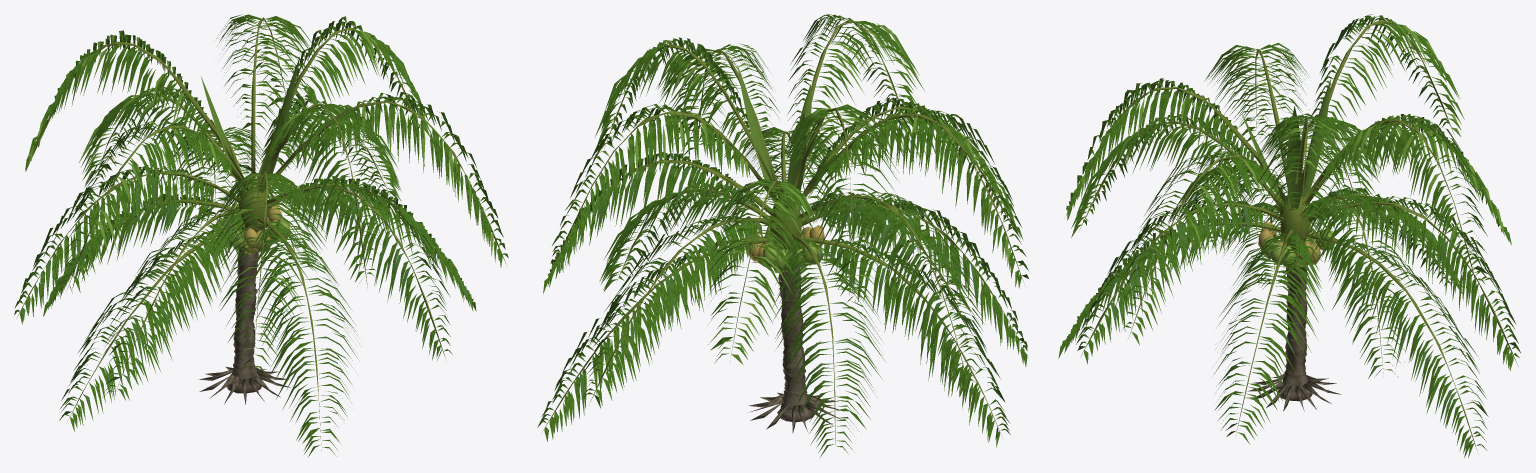
Rendered from KL_LS_Coconut_Juvenile_C_LOD2.gltf.
The picture shows the model from 3 angles, left to right: view 1: azimuth 30°, elevation 25°; view 2: azimuth 150°, elevation 25°; view 3: azimuth 270°, elevation 25°; orthographic projection. The views are drawn at different scales.
Parts seen in each view (by area): view 1: TF3_KL_LS_Coconut_Juvenile_C_LOD2; view 2: TF3_KL_LS_Coconut_Juvenile_C_LOD2; view 3: TF3_KL_LS_Coconut_Juvenile_C_LOD2.
Boxes of the visible parts, x1=… form: TF3_KL_LS_Coconut_Juvenile_C_LOD2: x1=14, y1=14, x2=508, y2=456; TF3_KL_LS_Coconut_Juvenile_C_LOD2: x1=537, y1=14, x2=1028, y2=457; TF3_KL_LS_Coconut_Juvenile_C_LOD2: x1=1058, y1=14, x2=1520, y2=457.
Bounding box in the file's own units: 5.34 × 4.26 × 5.33.
8 materials, 2 textured.
